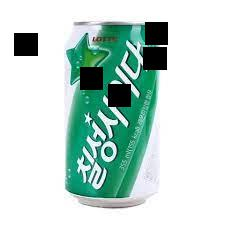chilsungcider: (57, 18, 164, 214)
